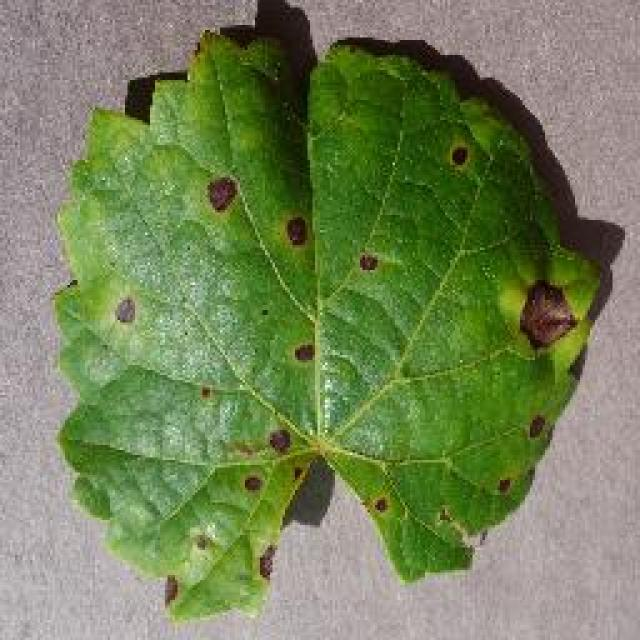Grape___Black_rot: (49, 21, 612, 625)
